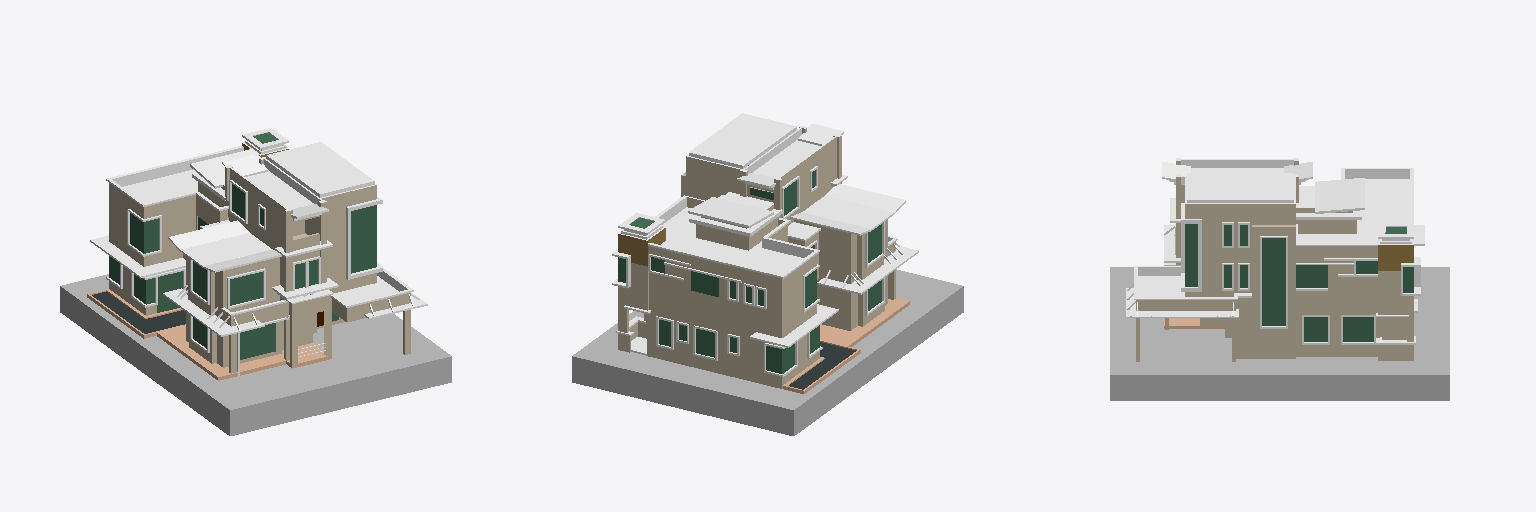
Rendered from bungalow.obj.
The picture shows the model from 3 angles: view 1: azimuth 30°, elevation 25°; view 2: azimuth 150°, elevation 25°; view 3: azimuth 270°, elevation 25°; orthographic projection.
Parts seen in each view (by area): view 1: bonga; view 2: bonga; view 3: bonga.
Part boxes in pixels (left/top/right/bottom): bonga: left=60, top=128, right=451, bottom=435; bonga: left=572, top=113, right=963, bottom=435; bonga: left=1110, top=158, right=1449, bottom=400.
Size of the model in its own units: 1.85 by 1.46 by 2.46.